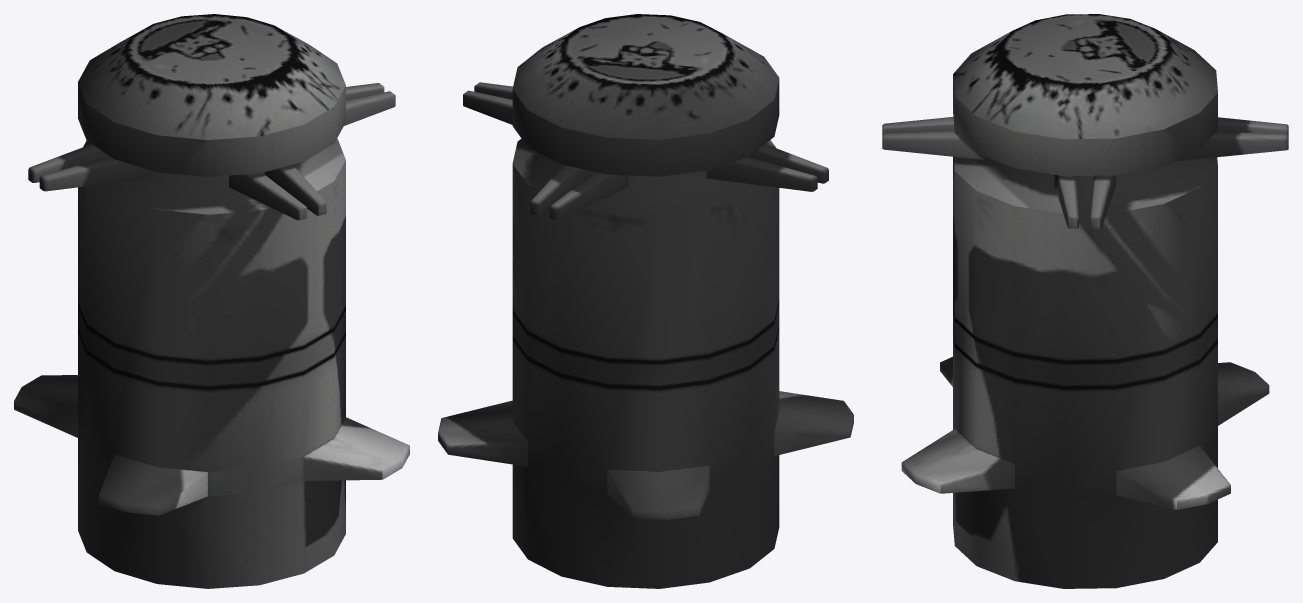
File: OBJ_Laser_Spin_anim.FBX
3 renders of one model, left to right at view 1: azimuth 30°, elevation 25°; view 2: azimuth 150°, elevation 25°; view 3: azimuth 270°, elevation 25°, orthographic.
Visible parts, largest first — view 1: Mesh; view 2: Mesh; view 3: Mesh.
Boxes of the visible parts, left/top/right/bottom form: Mesh: left=14, top=14, right=409, bottom=588; Mesh: left=438, top=14, right=853, bottom=588; Mesh: left=882, top=14, right=1288, bottom=588.
Bounding box in the file's own units: 1.83 × 2.4 × 1.83.
1 material, 1 textured.
